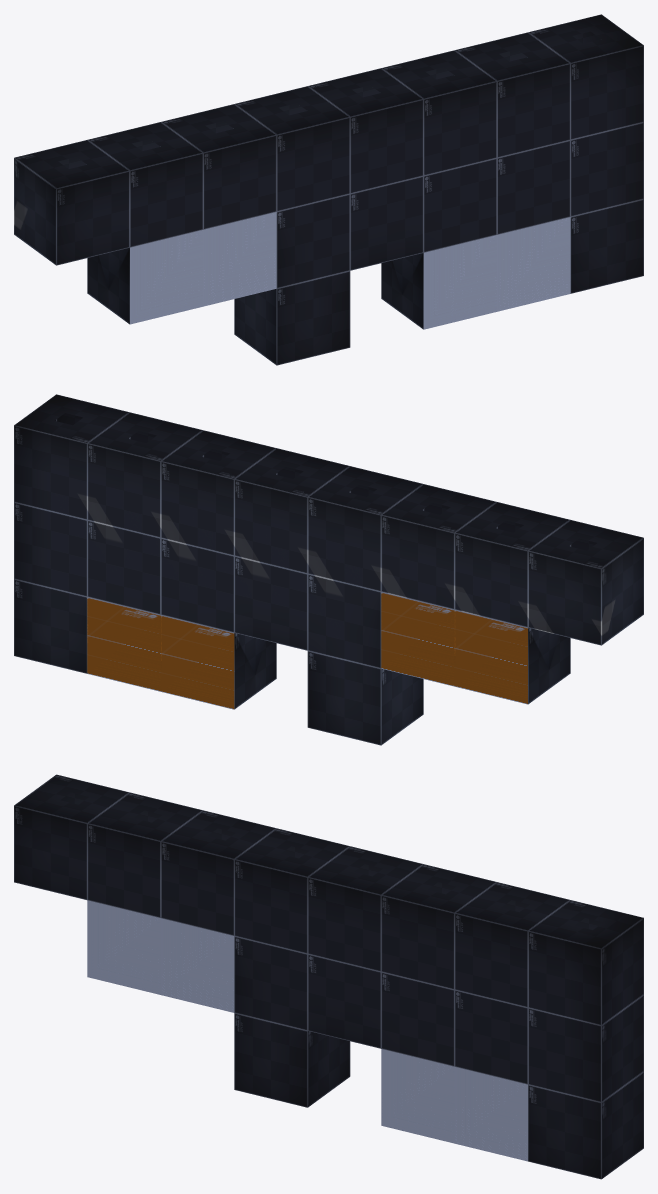
The model's file is Tutorial.glb.
3 views of the same model, one above another, from view 1: azimuth 30°, elevation 25°; view 2: azimuth 150°, elevation 25°; view 3: azimuth 330°, elevation 25° (orthographic).
Parts seen in each view (by area): view 1: Plane.017_col, Plane.019_col, Plane.026_col, Plane.010_col, Plane.015_col, Plane.022_col, Plane.024_col, Plane.030_col, Plane.032_col, Plane_col.002, Plane_col.004, Plane.004_col (+19 smaller); view 2: Plane.016_col, Plane.018_col, Plane.025_col, Plane.002_col, Plane.009_col, Plane.021_col, Plane.023_col, Plane.029_col, Plane.031_col, Plane_col.002, Plane_col.004, Plane.003_col (+19 smaller); view 3: Plane.010_col, Plane.028_col, Plane.015_col, Plane.017_col, Plane.022_col, Plane.026_col, Plane.030_col, Plane_col.002, Plane_col.006, Plane.006_col, Plane.012_col, Plane.014_col (+19 smaller).
Part boxes in pixels (x1=…): Plane.017_col: x1=276, y1=194, x2=350, y2=288; Plane.019_col: x1=276, y1=271, x2=350, y2=365; Plane.026_col: x1=276, y1=117, x2=350, y2=211; Plane.010_col: x1=350, y1=176, x2=423, y2=270; Plane.015_col: x1=570, y1=122, x2=643, y2=216; Plane.022_col: x1=130, y1=153, x2=203, y2=247; Plane.024_col: x1=203, y1=135, x2=276, y2=229; Plane.030_col: x1=423, y1=81, x2=496, y2=175; Plane.032_col: x1=497, y1=63, x2=570, y2=157; Plane_col.002: x1=423, y1=235, x2=496, y2=329; Plane_col.004: x1=497, y1=217, x2=570, y2=311; Plane.004_col: x1=56, y1=171, x2=129, y2=265; Plane.016_col: x1=307, y1=574, x2=381, y2=668; Plane.018_col: x1=307, y1=651, x2=381, y2=745; Plane.025_col: x1=307, y1=497, x2=381, y2=591; Plane.002_col: x1=14, y1=502, x2=87, y2=596; Plane.009_col: x1=234, y1=556, x2=307, y2=650; Plane.021_col: x1=454, y1=533, x2=527, y2=627; Plane.023_col: x1=381, y1=515, x2=454, y2=609; Plane.029_col: x1=161, y1=461, x2=234, y2=555; Plane.031_col: x1=87, y1=443, x2=160, y2=537; Plane_col.002: x1=161, y1=615, x2=234, y2=709; Plane_col.004: x1=87, y1=597, x2=160, y2=691; Plane.003_col: x1=528, y1=551, x2=601, y2=645; Plane.010_col: x1=307, y1=954, x2=381, y2=1048; Plane.028_col: x1=307, y1=877, x2=381, y2=971; Plane.015_col: x1=528, y1=1008, x2=601, y2=1102; Plane.017_col: x1=234, y1=936, x2=307, y2=1030; Plane.022_col: x1=87, y1=823, x2=160, y2=917; Plane.026_col: x1=234, y1=859, x2=307, y2=953; Plane.030_col: x1=381, y1=895, x2=454, y2=989; Plane_col.002: x1=381, y1=1049, x2=454, y2=1143; Plane_col.006: x1=87, y1=900, x2=160, y2=994; Plane.006_col: x1=528, y1=1084, x2=601, y2=1179; Plane.012_col: x1=381, y1=972, x2=454, y2=1066; Plane.014_col: x1=454, y1=990, x2=527, y2=1084.
Bounding box in the file's own units: 160 × 60 × 20.
Materials: 62 (62 with a texture image).
